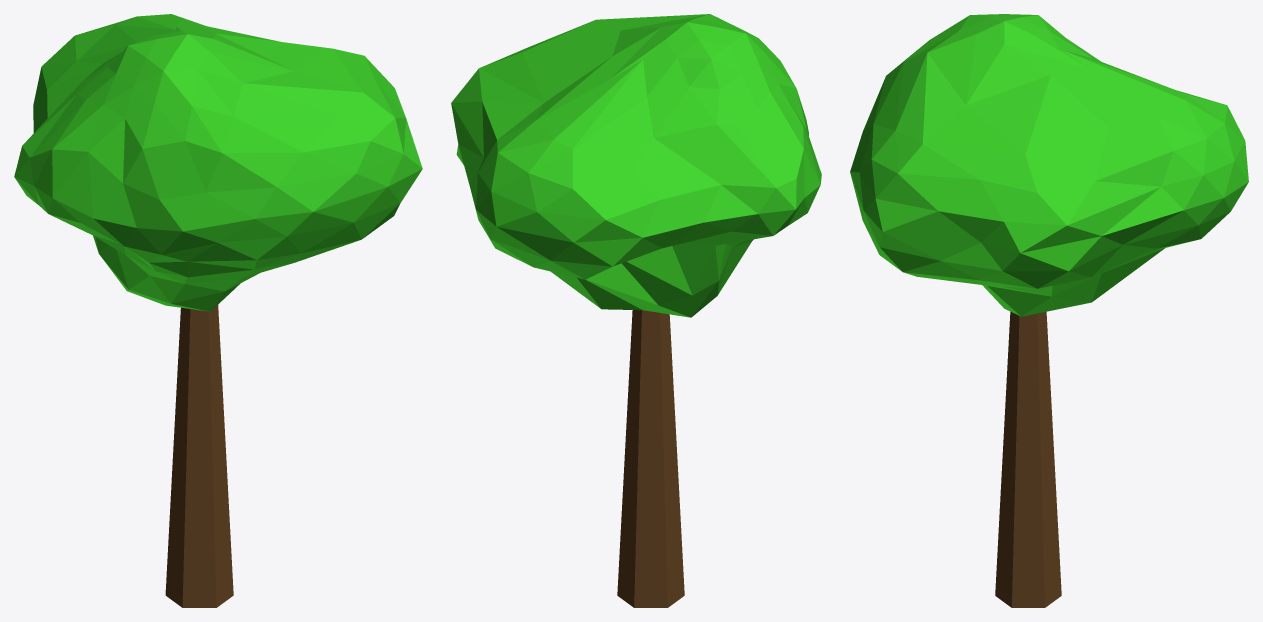
The model's file is tree.fbx.
The picture shows the model from 3 angles, left to right: view 1: azimuth 30°, elevation 25°; view 2: azimuth 150°, elevation 25°; view 3: azimuth 270°, elevation 25°; orthographic projection. The views are drawn at different scales.
Parts seen in each view (by area): view 1: Icosphere; view 2: Icosphere; view 3: Icosphere.
Part boxes in pixels (x1,y1,x2,y2): Icosphere: (14, 14, 422, 607); Icosphere: (451, 14, 821, 607); Icosphere: (850, 14, 1248, 607).
Bounding box in the file's own units: 3648 × 5596 × 3594.
